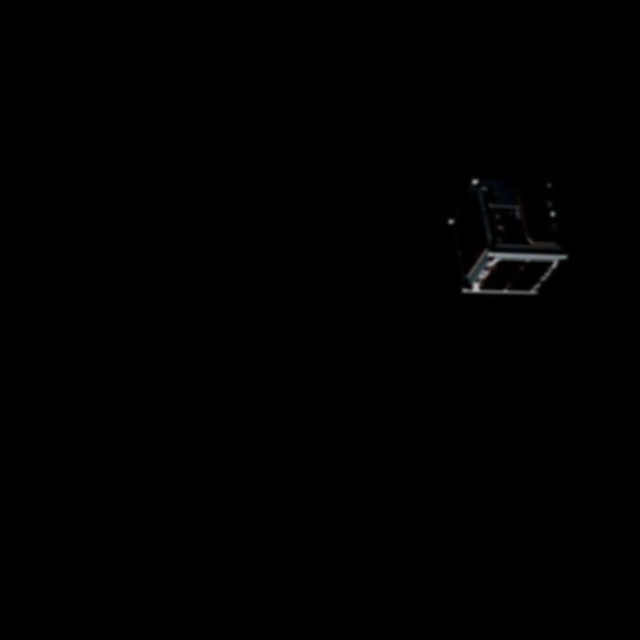satellite: (443, 154, 577, 305)
